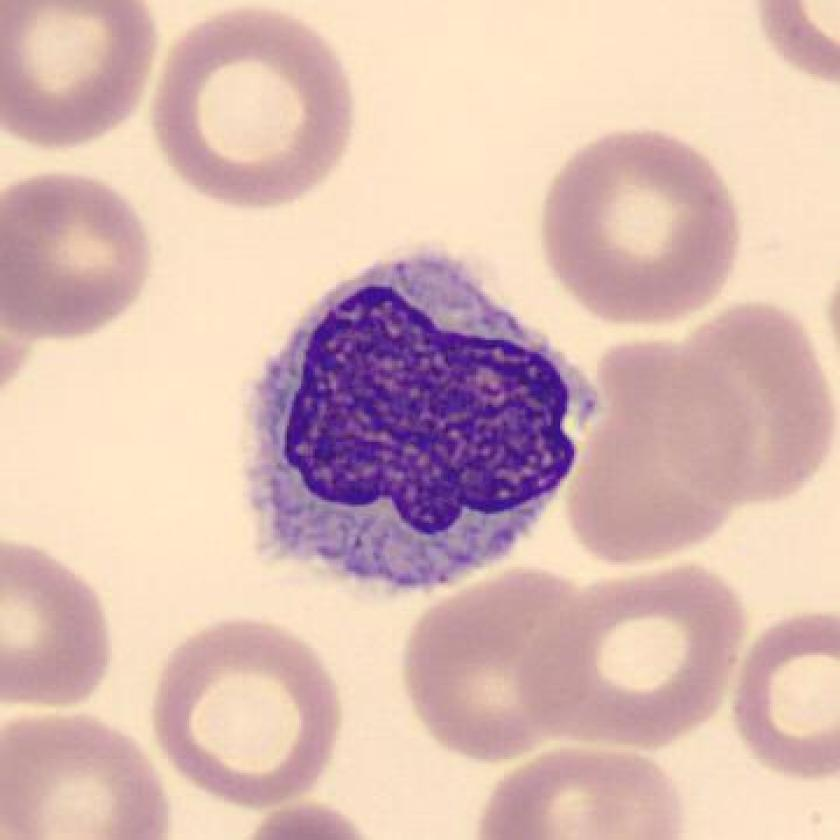monocyte: (223, 235, 624, 607)
